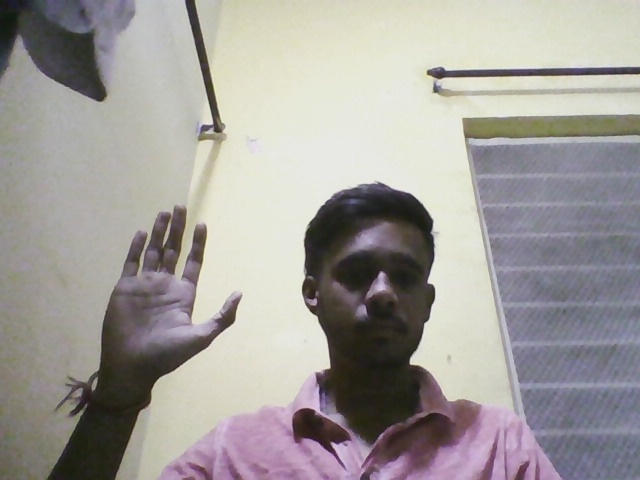hello: (93, 189, 249, 380)
